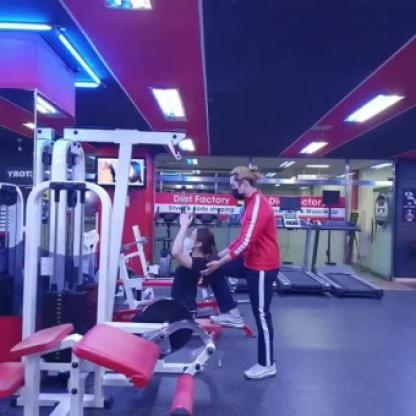Lat Pull Down: (0, 89, 266, 416)
